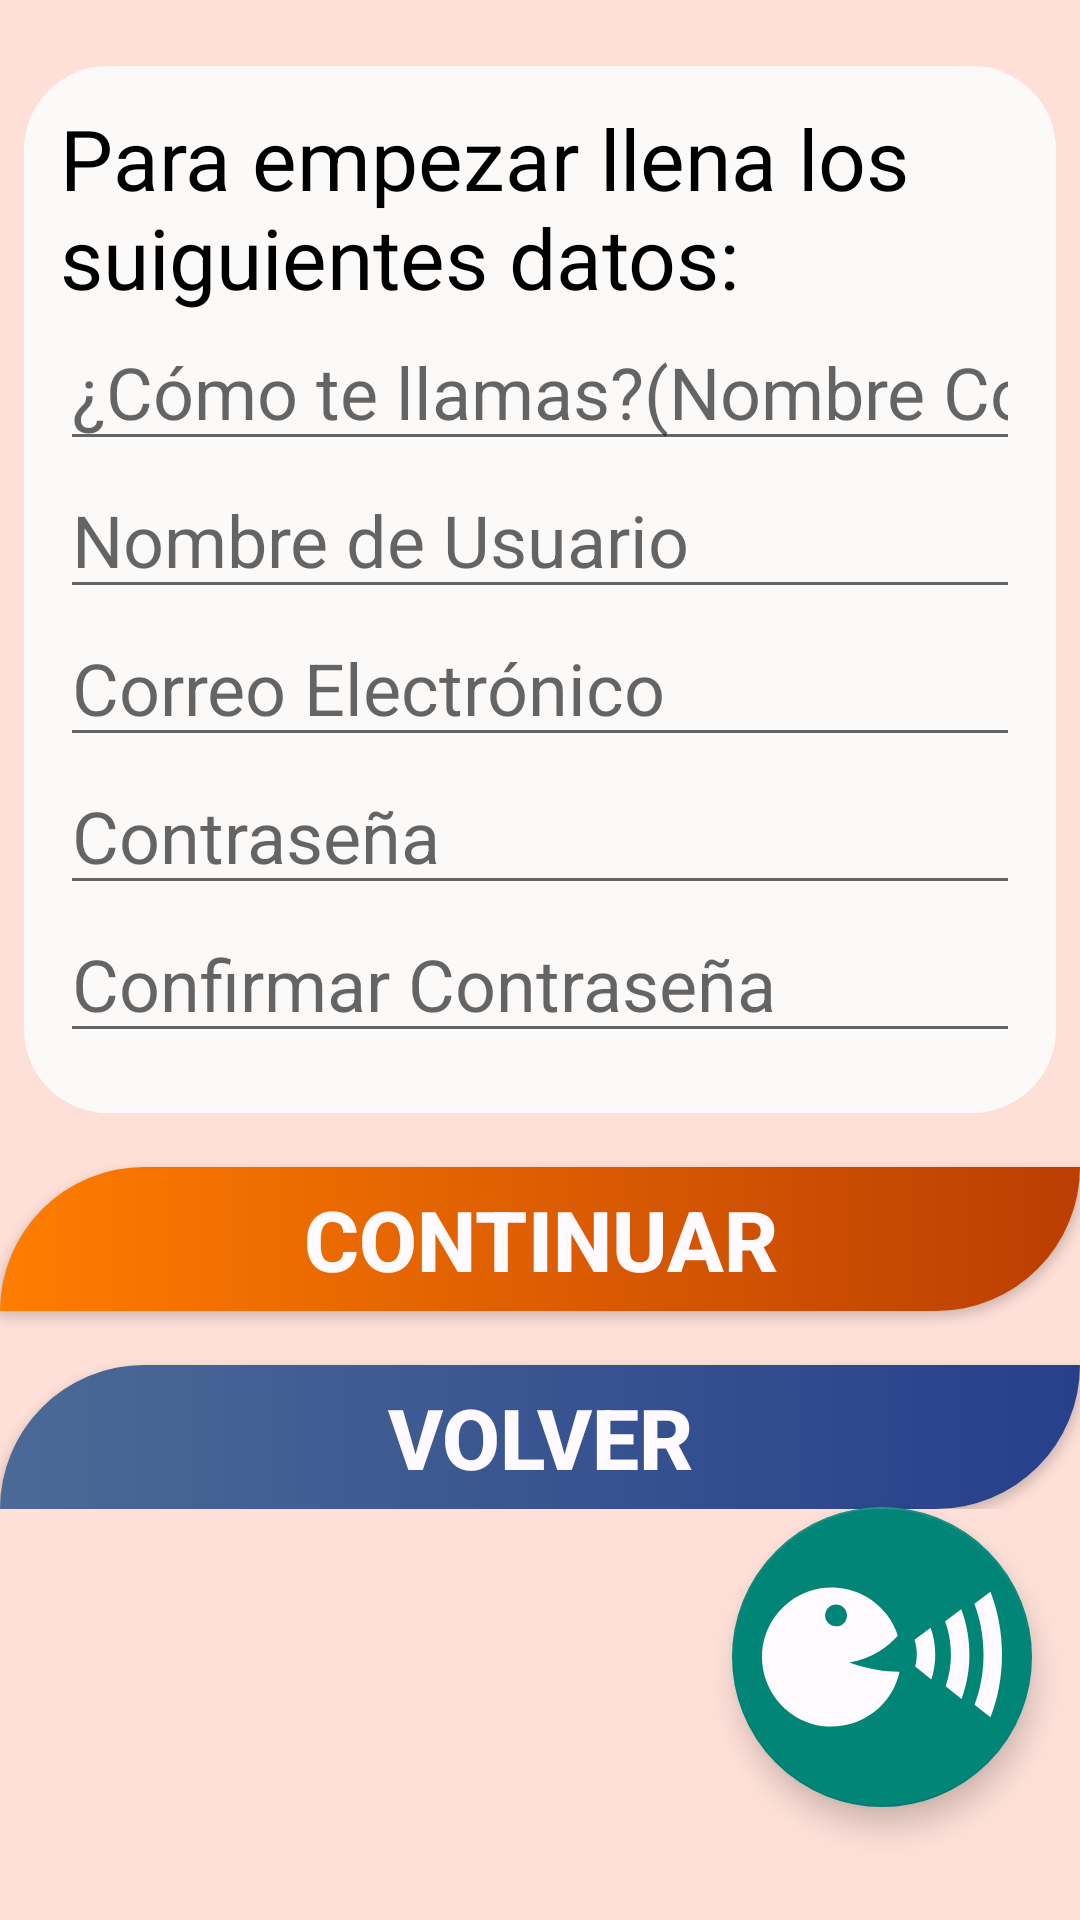

Where to tap for icons on this 1080×1920 app screen, as (x,y):
Activar comandos de voz: (882,1657)
